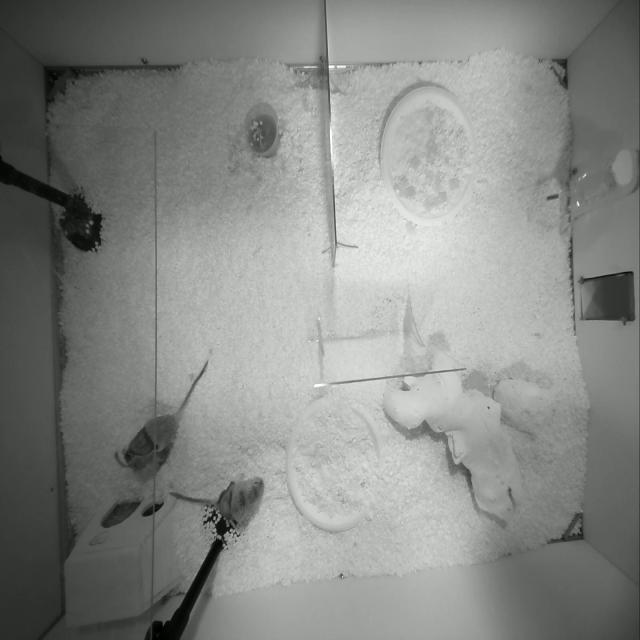adult_back: (170, 474, 264, 527)
adult_front: (123, 361, 208, 466)
pup_v_stripe: (114, 444, 172, 479)
